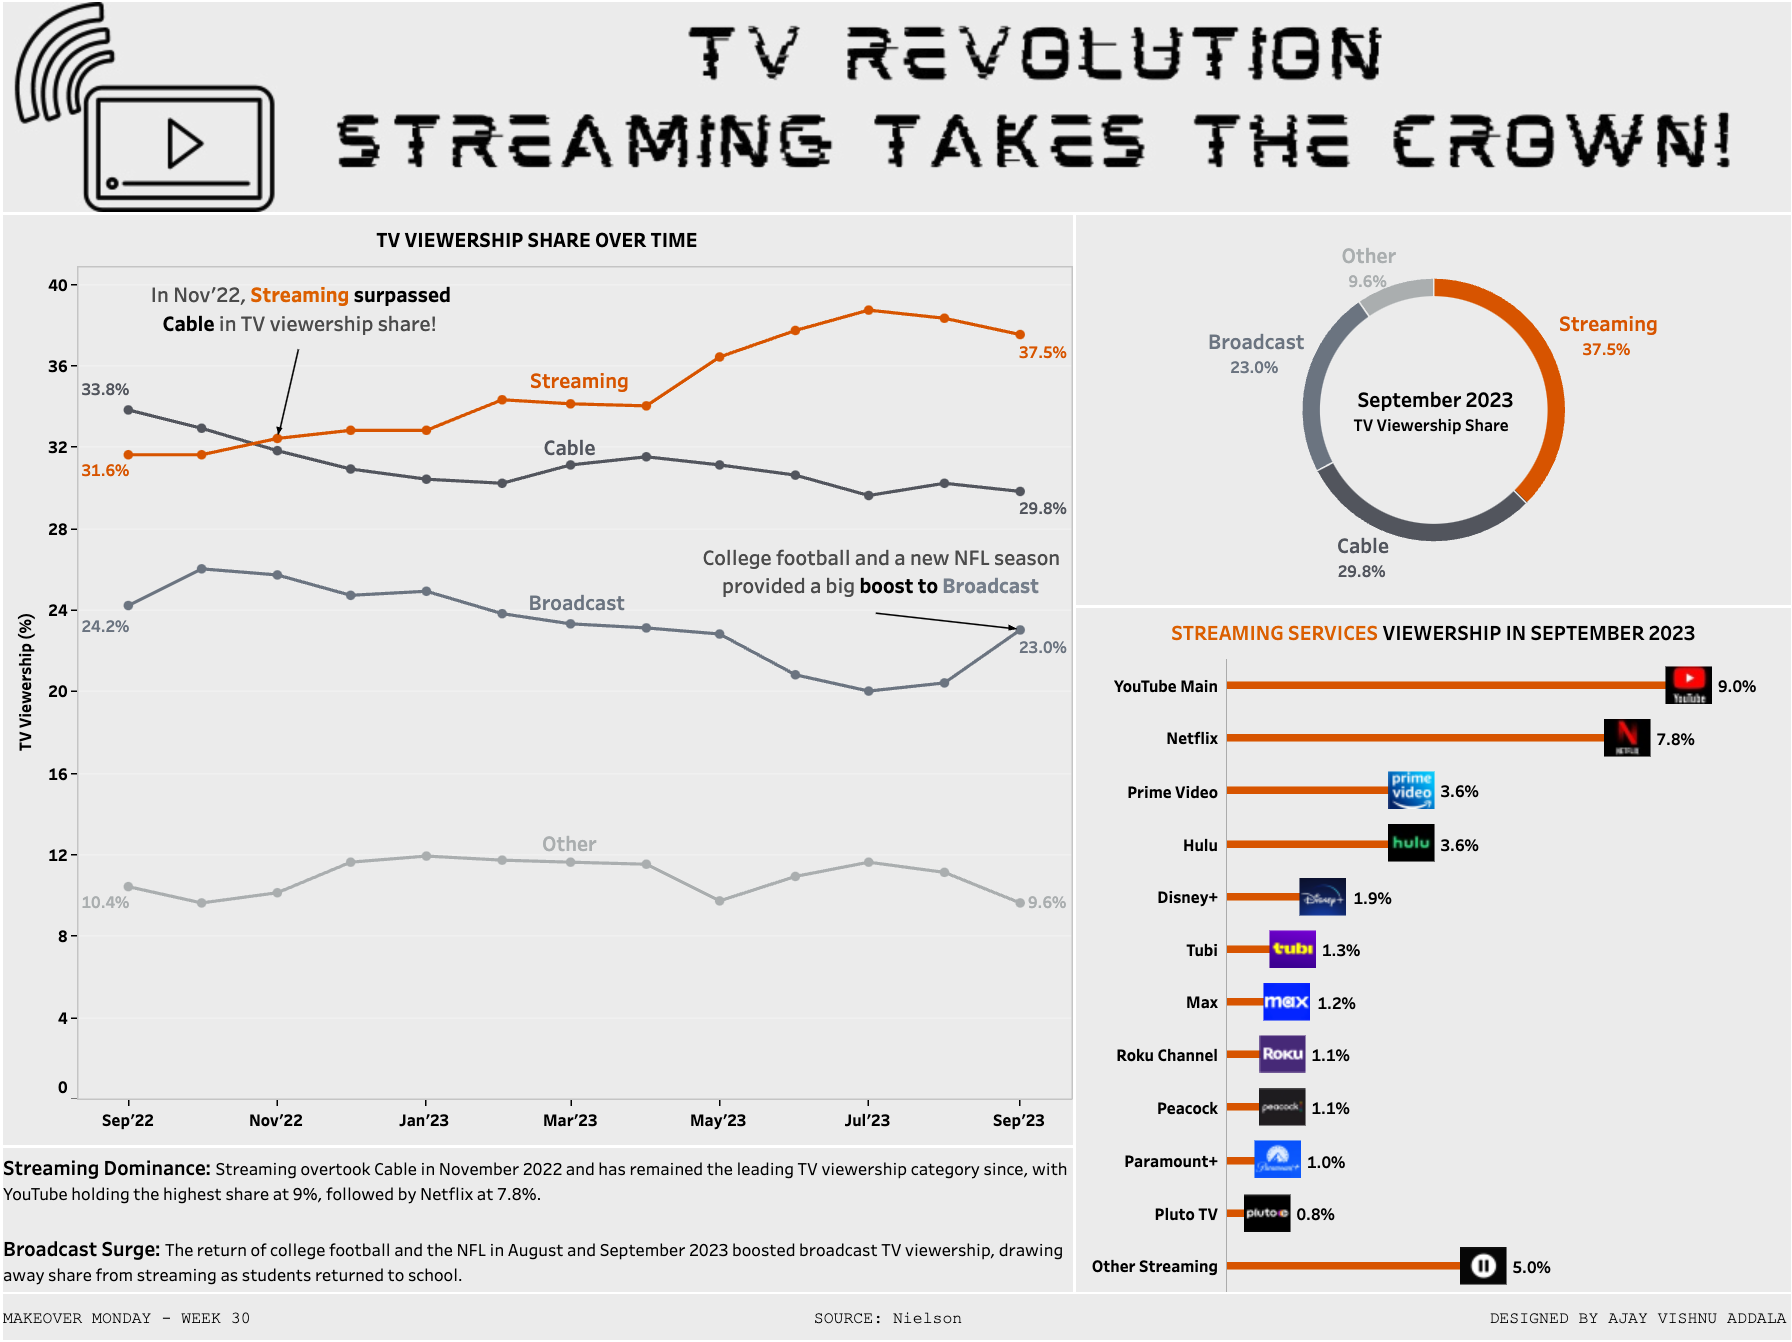

The dashboard page shown, as its layout file describes it:
{"tool":"tableau","page":{"name":"Streaming","canvas":[1200,900],"ordinal":0},"visuals":[{"type":"image","param":"Image/TV Revolution Streaming Takes the Crown!.png","box":[4,4,1192,140]},{"type":"worksheet","title":"Line Chart","mark":"Automatic","rows":["Pivot Field Values","Pivot Field Values"],"cols":["Month"],"box":[4,144,713,622]},{"type":"worksheet","title":"Sept_23_Streaming","mark":"Pie","rows":["Calculation_240661147474804737","Calculation_240661147474804737"],"box":[717,144,479,262]},{"type":"worksheet","title":"Streaming_Drilldown","mark":"Automatic","rows":["Streaming Service"],"cols":["Percentage","Percentage"],"box":[717,406,479,458]},{"type":"text","box":[4,766,713,98]},{"type":"text","box":[4,865,204,30]},{"type":"text","box":[492,865,204,30]},{"type":"text","box":[992,865,204,30]}]}

Visuals, with their boxes in screenshot pixels (x1, y1, x2, y2), scaled from the page's 1200x900 canvas onto the 1792x1342 screenshot:
image: Rect(6, 6, 1786, 215)
"Line Chart" worksheet: Rect(6, 215, 1071, 1142)
"Sept_23_Streaming" worksheet (Pie marks): Rect(1071, 215, 1786, 605)
"Streaming_Drilldown" worksheet: Rect(1071, 605, 1786, 1288)
text: Rect(6, 1142, 1071, 1288)
text: Rect(6, 1290, 311, 1335)
text: Rect(735, 1290, 1039, 1335)
text: Rect(1481, 1290, 1786, 1335)
